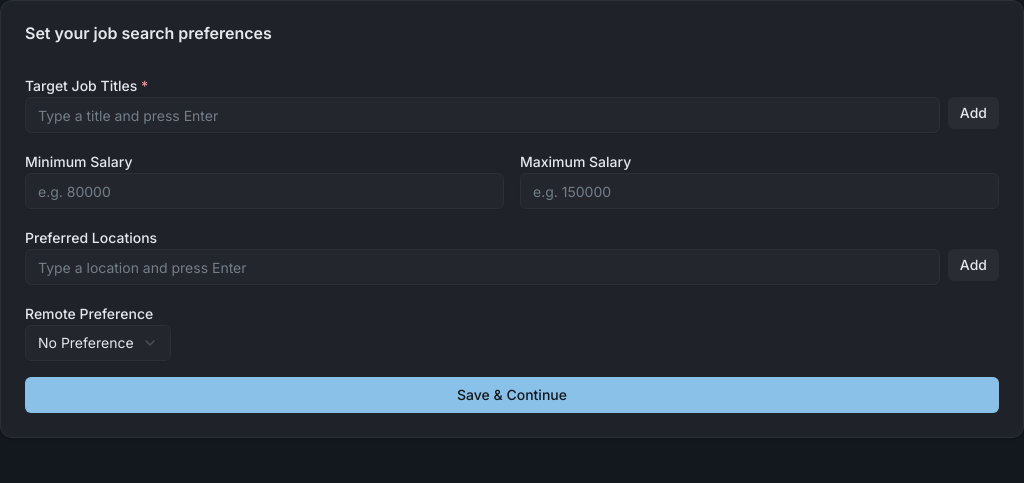
PreferencesStep › [P0] should show error when no titles and tries to submit
Step 1. Click the button "Save & Continue" → (512,395), box [25,377,999,413]
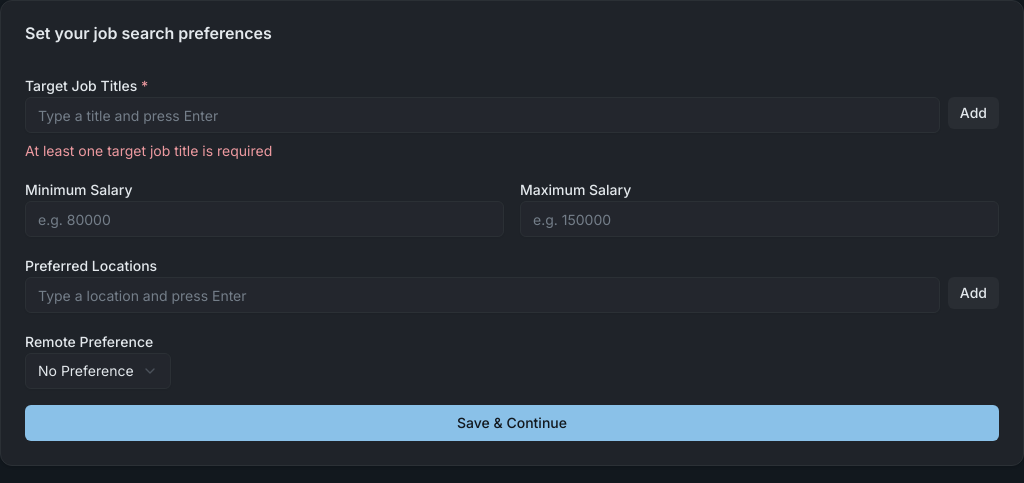
Result: the text "At least one target job title is required" is shown at [25,142,272,159]
